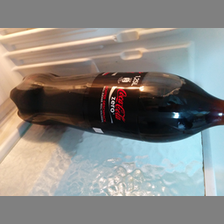soda: (9, 72, 224, 143)
